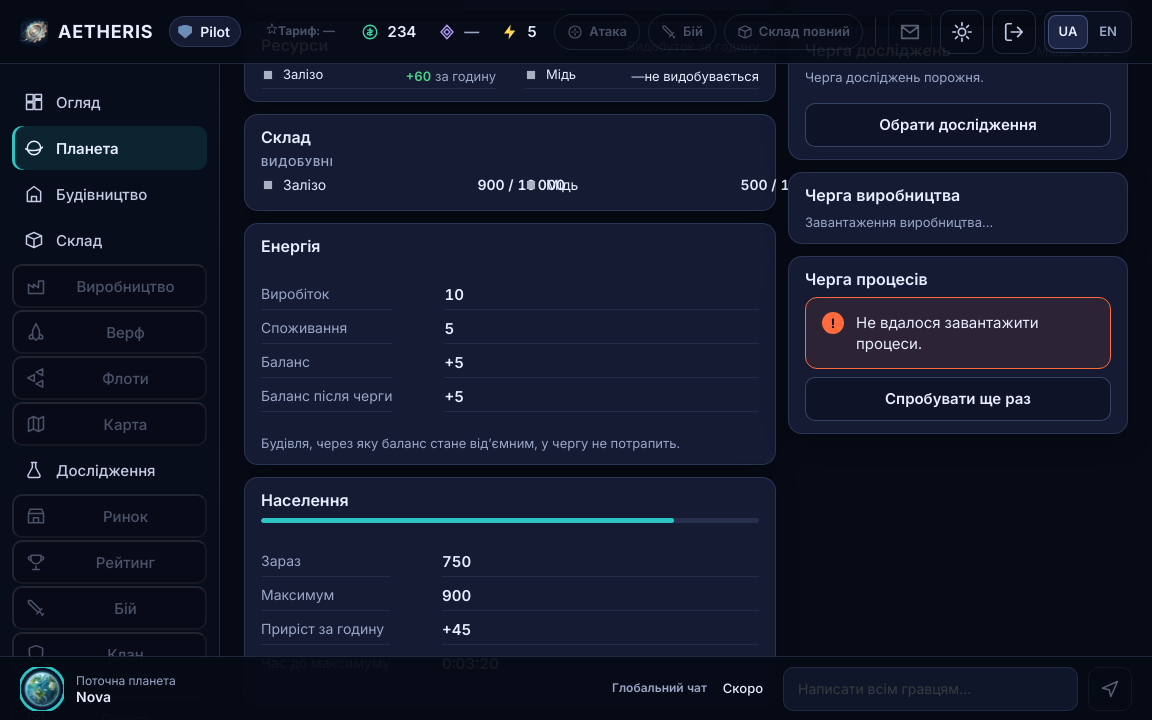
Test: the queues of the production and of the processes on /planet › says that the queues load, and that they could not, with a way to try again
(page scrolled)
Check: the message "Завантаження виробництва…" is shown, box [805,214,993,230]
Check: the text "Не вдалося завантажити процеси." is shown, box [856,313,1039,353]
Click the button "Спробувати ще раз": [958, 399] box [805,377,1111,421]
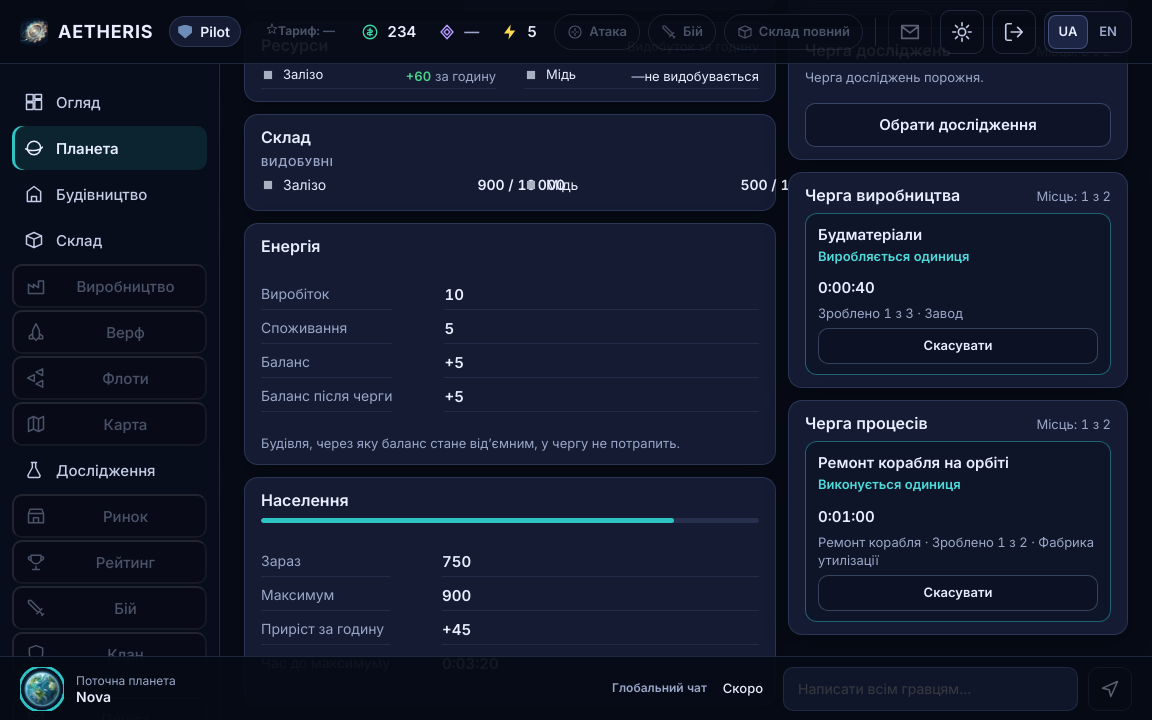
Check: the text "Ремонт корабля · Зроблено 1 з 2 · Фабрика утилізації" is shown, box [818,533,1098,569]
Check: the text "Зроблено 1 з 3 · Завод" is shown, box [818,305,963,321]
